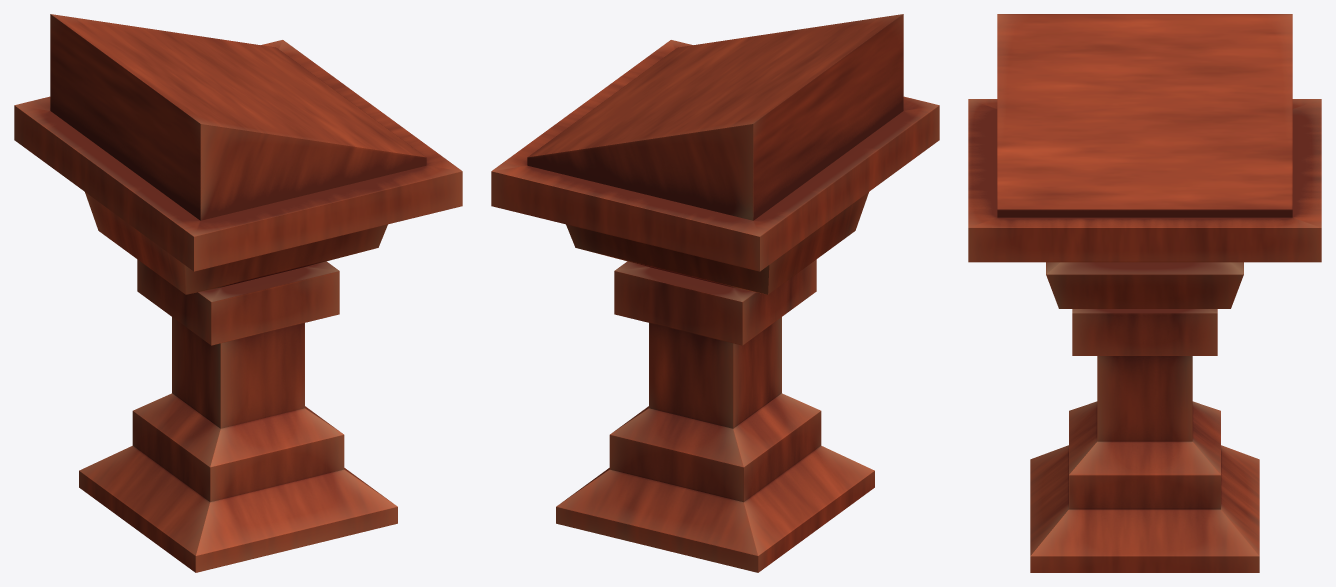
File: lectern.fbx
3 renders of one model, left to right at view 1: azimuth 30°, elevation 25°; view 2: azimuth 150°, elevation 25°; view 3: azimuth 270°, elevation 25°, orthographic.
Parts seen in each view (by area): view 1: columne_v2.001; view 2: columne_v2.001; view 3: columne_v2.001.
Boxes of the visible parts, x1=… form: columne_v2.001: x1=14, y1=14, x2=462, y2=572; columne_v2.001: x1=491, y1=14, x2=939, y2=572; columne_v2.001: x1=968, y1=14, x2=1321, y2=572.
Bounding box in the file's own units: 599 × 988 × 694.
